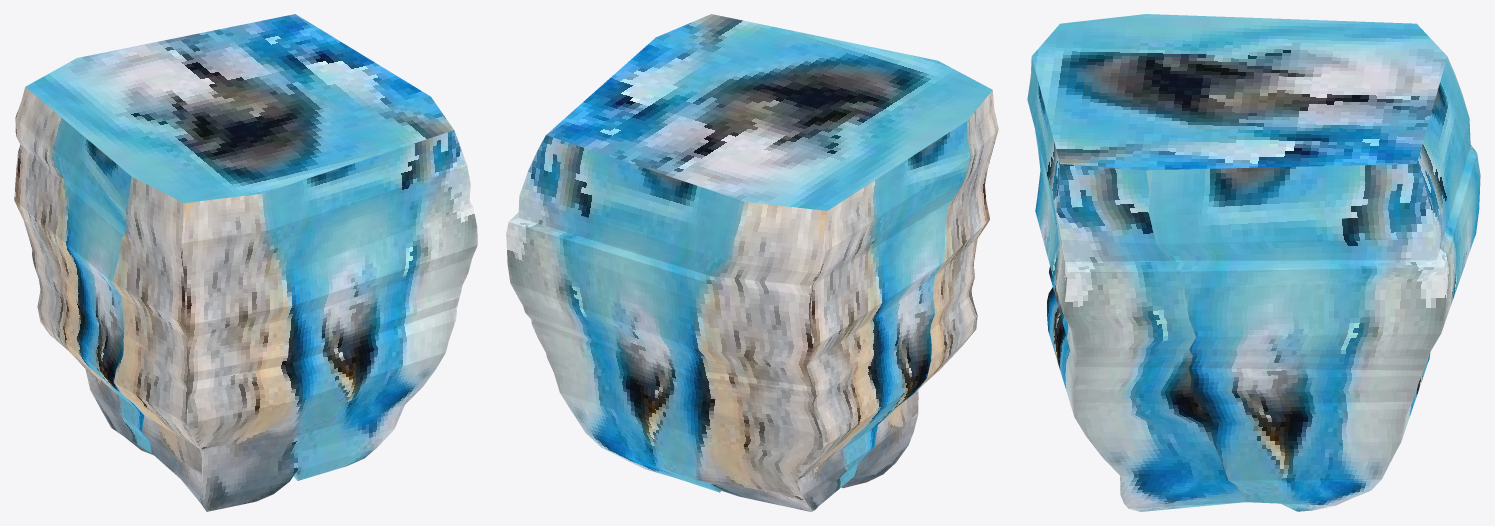
3 views of the same model, side by side, from view 1: azimuth 30°, elevation 25°; view 2: azimuth 150°, elevation 25°; view 3: azimuth 270°, elevation 25° (orthographic). The views are drawn at different scales.
Visible parts, largest first — view 1: SPLICE_2.002; view 2: SPLICE_2.002; view 3: SPLICE_2.002.
Part boxes in pixels (x1,y1,x2,y2): SPLICE_2.002: (14,14,477,511); SPLICE_2.002: (506,14,998,511); SPLICE_2.002: (1027,14,1480,511).
Bounding box in the file's own units: 1.2 × 1.28 × 1.27.
Materials: 1 (1 with a texture image).
